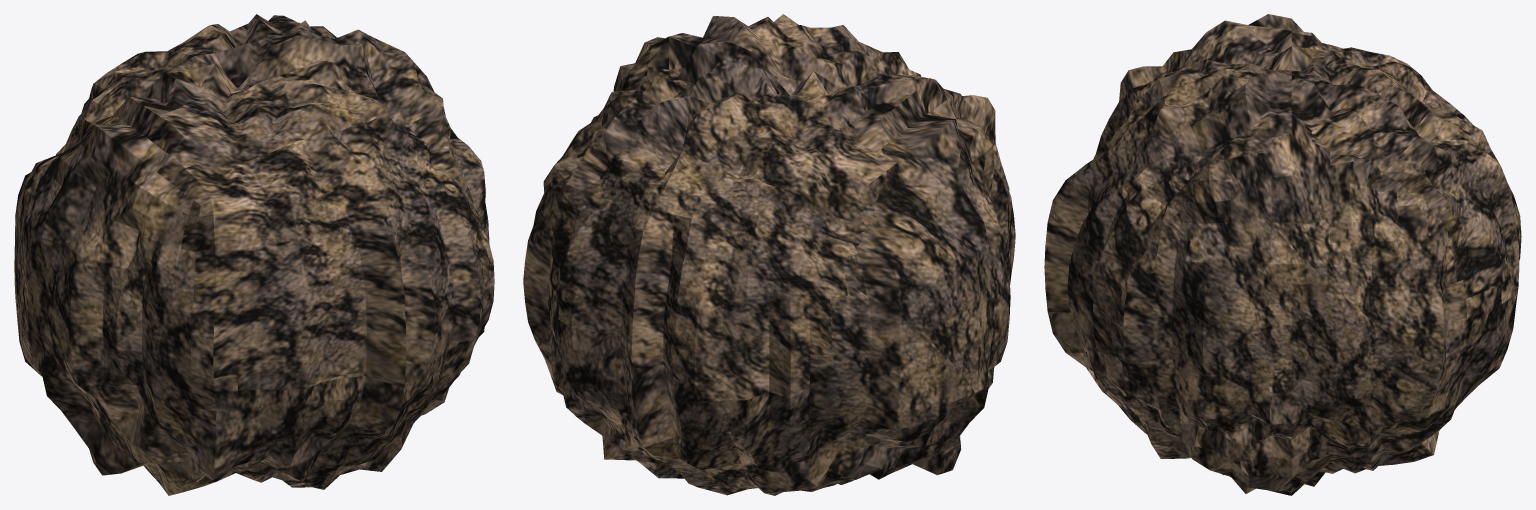
The model's file is asteroid45.obj.
The picture shows the model from 3 angles, left to right: view 1: azimuth 30°, elevation 25°; view 2: azimuth 150°, elevation 25°; view 3: azimuth 270°, elevation 25°; orthographic projection. The views are drawn at different scales.
Parts seen in each view (by area): view 1: Cube_Cube.002; view 2: Cube_Cube.002; view 3: Cube_Cube.002.
Boxes of the visible parts, box(x1,y1,x2,y2) form: Cube_Cube.002: box(14, 14, 494, 495); Cube_Cube.002: box(523, 14, 1015, 495); Cube_Cube.002: box(1044, 14, 1521, 495).
Bounding box in the file's own units: 1.74 × 1.75 × 1.83.
